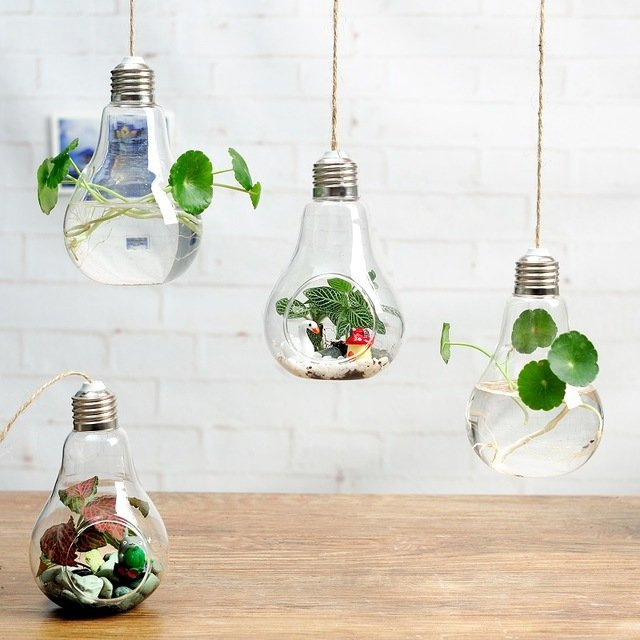Light_bulb: (59, 54, 216, 293), (25, 377, 180, 619), (262, 154, 415, 389), (464, 246, 608, 488)
